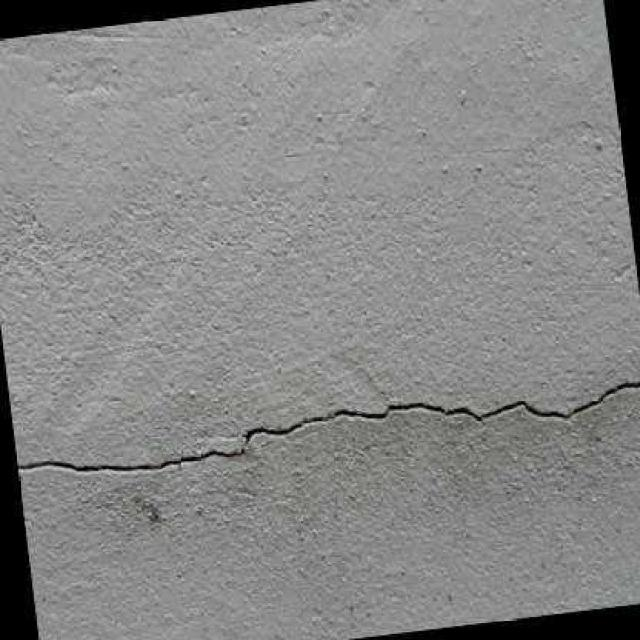D00: (15, 381, 640, 471)
